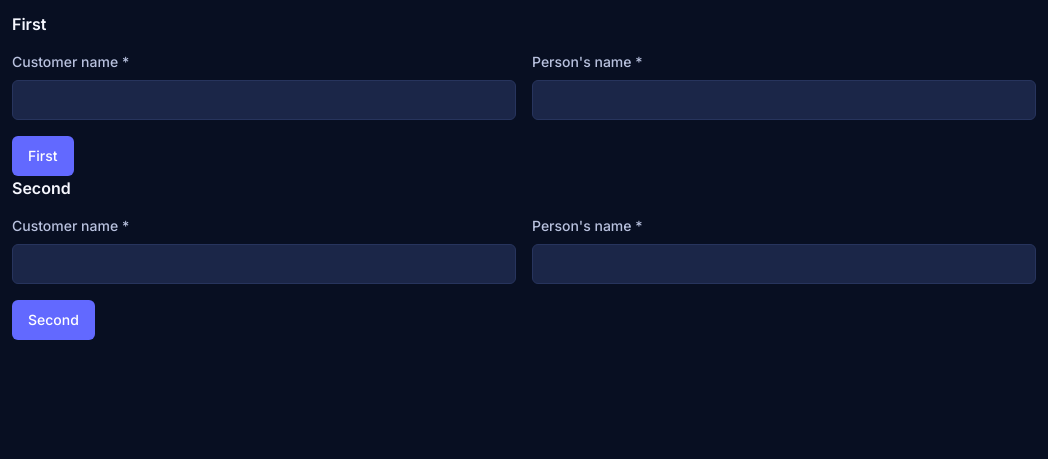
gives repeated controls unique IDs and associates server field errors
The width and height of the screenshot is (1048, 459).
Type "Family" into the 1st field labelled "Customer name *" at (264, 100), box x1=12 y1=80 x2=516 y2=120
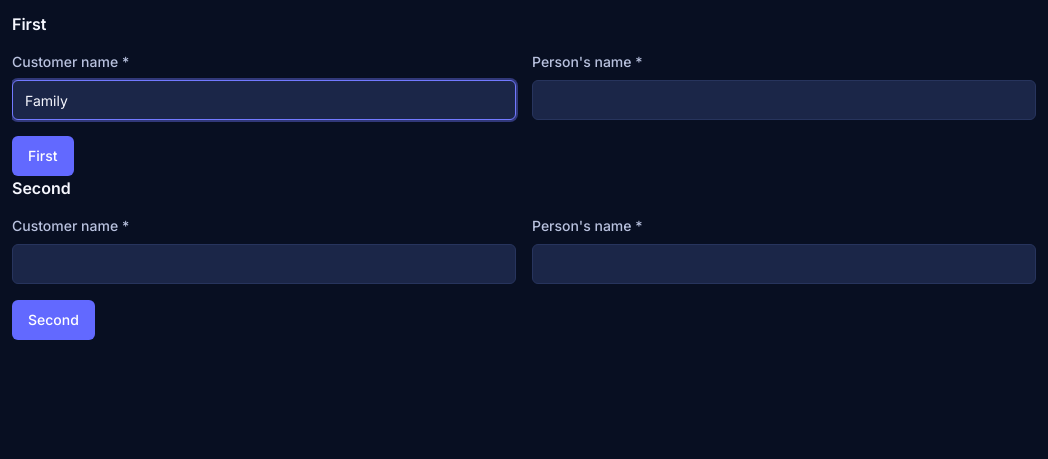
Type "Ada" into the 1st field labelled "Person's name *" at (784, 100), box x1=532 y1=80 x2=1036 y2=120
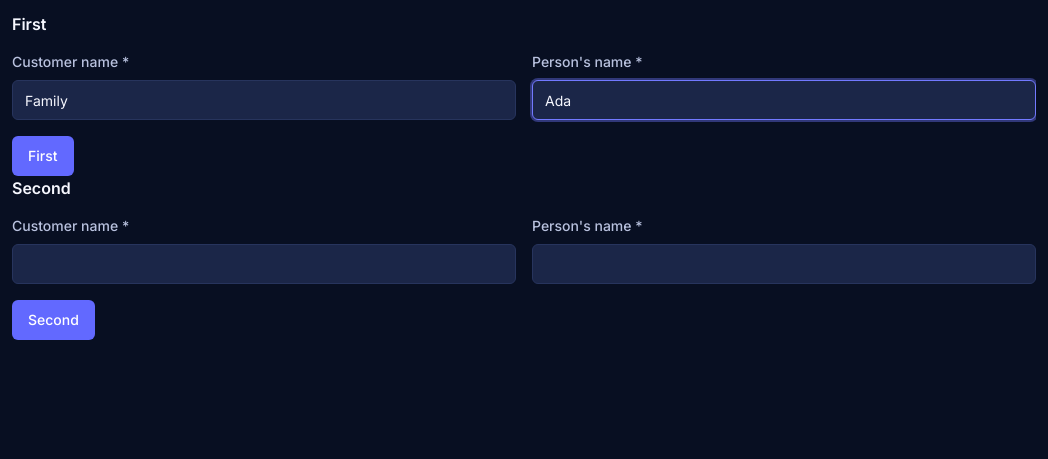
Click the button "First" at (43, 156), box x1=12 y1=136 x2=74 y2=176
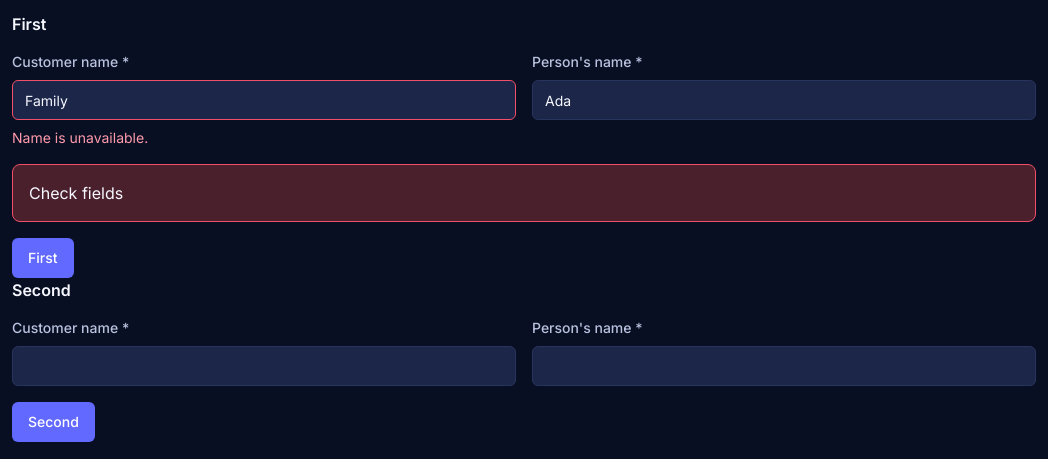
Now the text "Name is unavailable." is shown, box x1=12 y1=129 x2=148 y2=146
